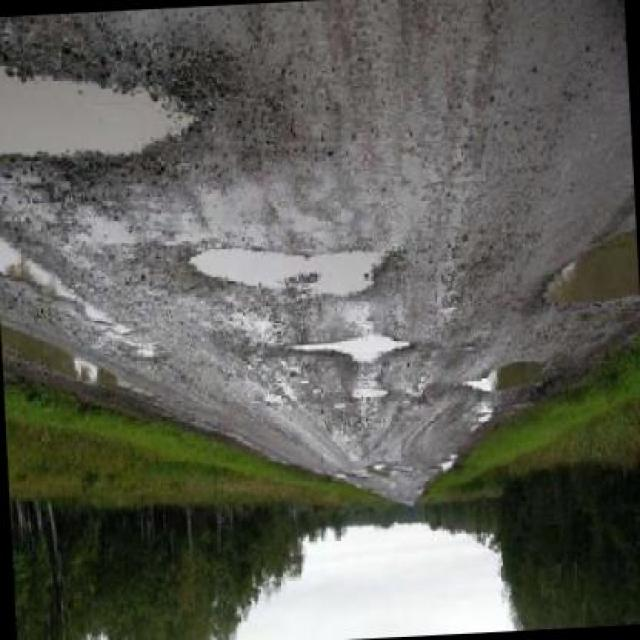pothole1: (0, 46, 203, 179), (182, 237, 407, 312), (534, 233, 638, 318), (284, 331, 414, 371), (458, 356, 544, 404), (347, 385, 390, 406), (434, 454, 458, 477)
